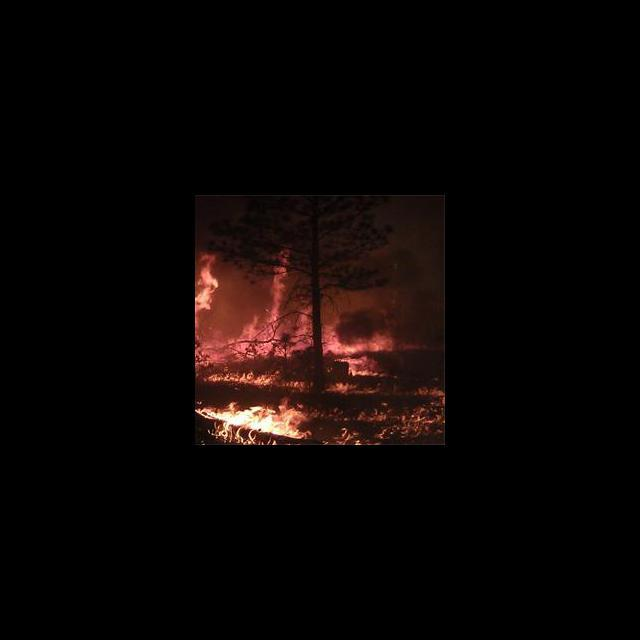Fire: (196, 245, 442, 444)
